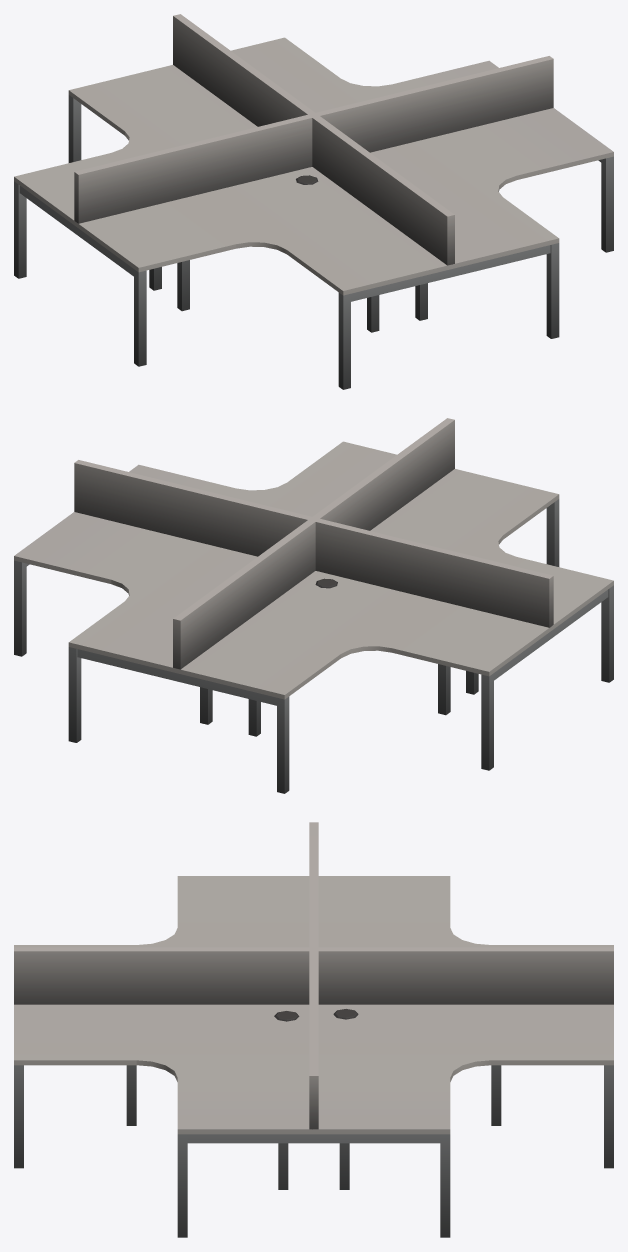
Rendered from DeskSet_QuadSplit.fbx.
The picture shows the model from 3 angles, top to bottom: view 1: azimuth 30°, elevation 25°; view 2: azimuth 150°, elevation 25°; view 3: azimuth 270°, elevation 25°; orthographic projection. The views are drawn at different scales.
Parts seen in each view (by area): view 1: DeskSet_QuadSplit; view 2: DeskSet_QuadSplit; view 3: DeskSet_QuadSplit.
Boxes of the visible parts, x1=… form: DeskSet_QuadSplit: x1=14, y1=14, x2=613, y2=389; DeskSet_QuadSplit: x1=14, y1=418, x2=613, y2=793; DeskSet_QuadSplit: x1=14, y1=822, x2=613, y2=1237.
Bounding box in the file's own units: 352 × 105 × 352.
